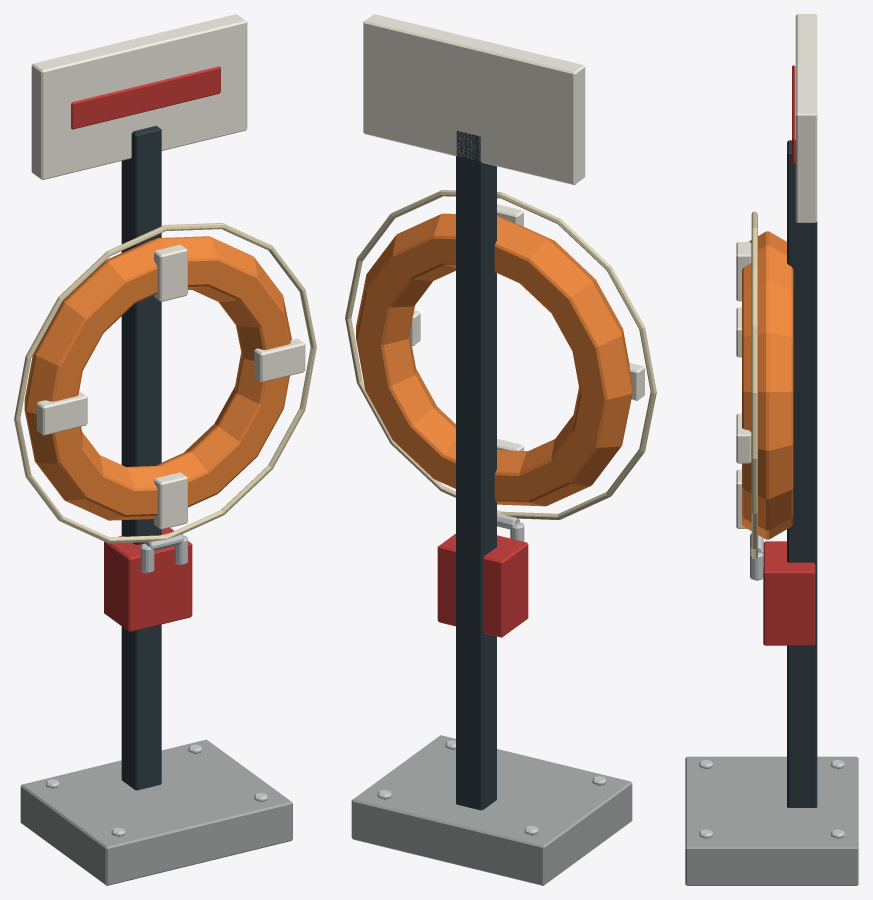
The model's file is b20_lifering_emergency_stand.glb.
3 renders of one model, left to right at view 1: azimuth 30°, elevation 25°; view 2: azimuth 150°, elevation 25°; view 3: azimuth 270°, elevation 25°, orthographic. The views are drawn at different scales.
Visible parts, largest first — view 1: b20_lifering_emergency_stand; view 2: b20_lifering_emergency_stand; view 3: b20_lifering_emergency_stand.
Boxes of the visible parts, x1,y1,x2,y2 form: b20_lifering_emergency_stand: (14, 14, 316, 885); b20_lifering_emergency_stand: (345, 14, 656, 885); b20_lifering_emergency_stand: (685, 14, 858, 885).
Bounding box in the file's own units: 0.8033 × 1.98 × 0.4.
